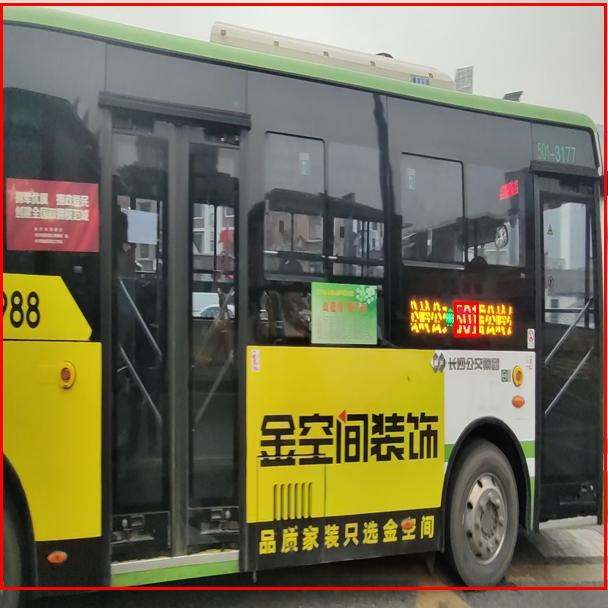bus: (0, 3, 606, 589)
screen: (454, 302, 478, 336)
